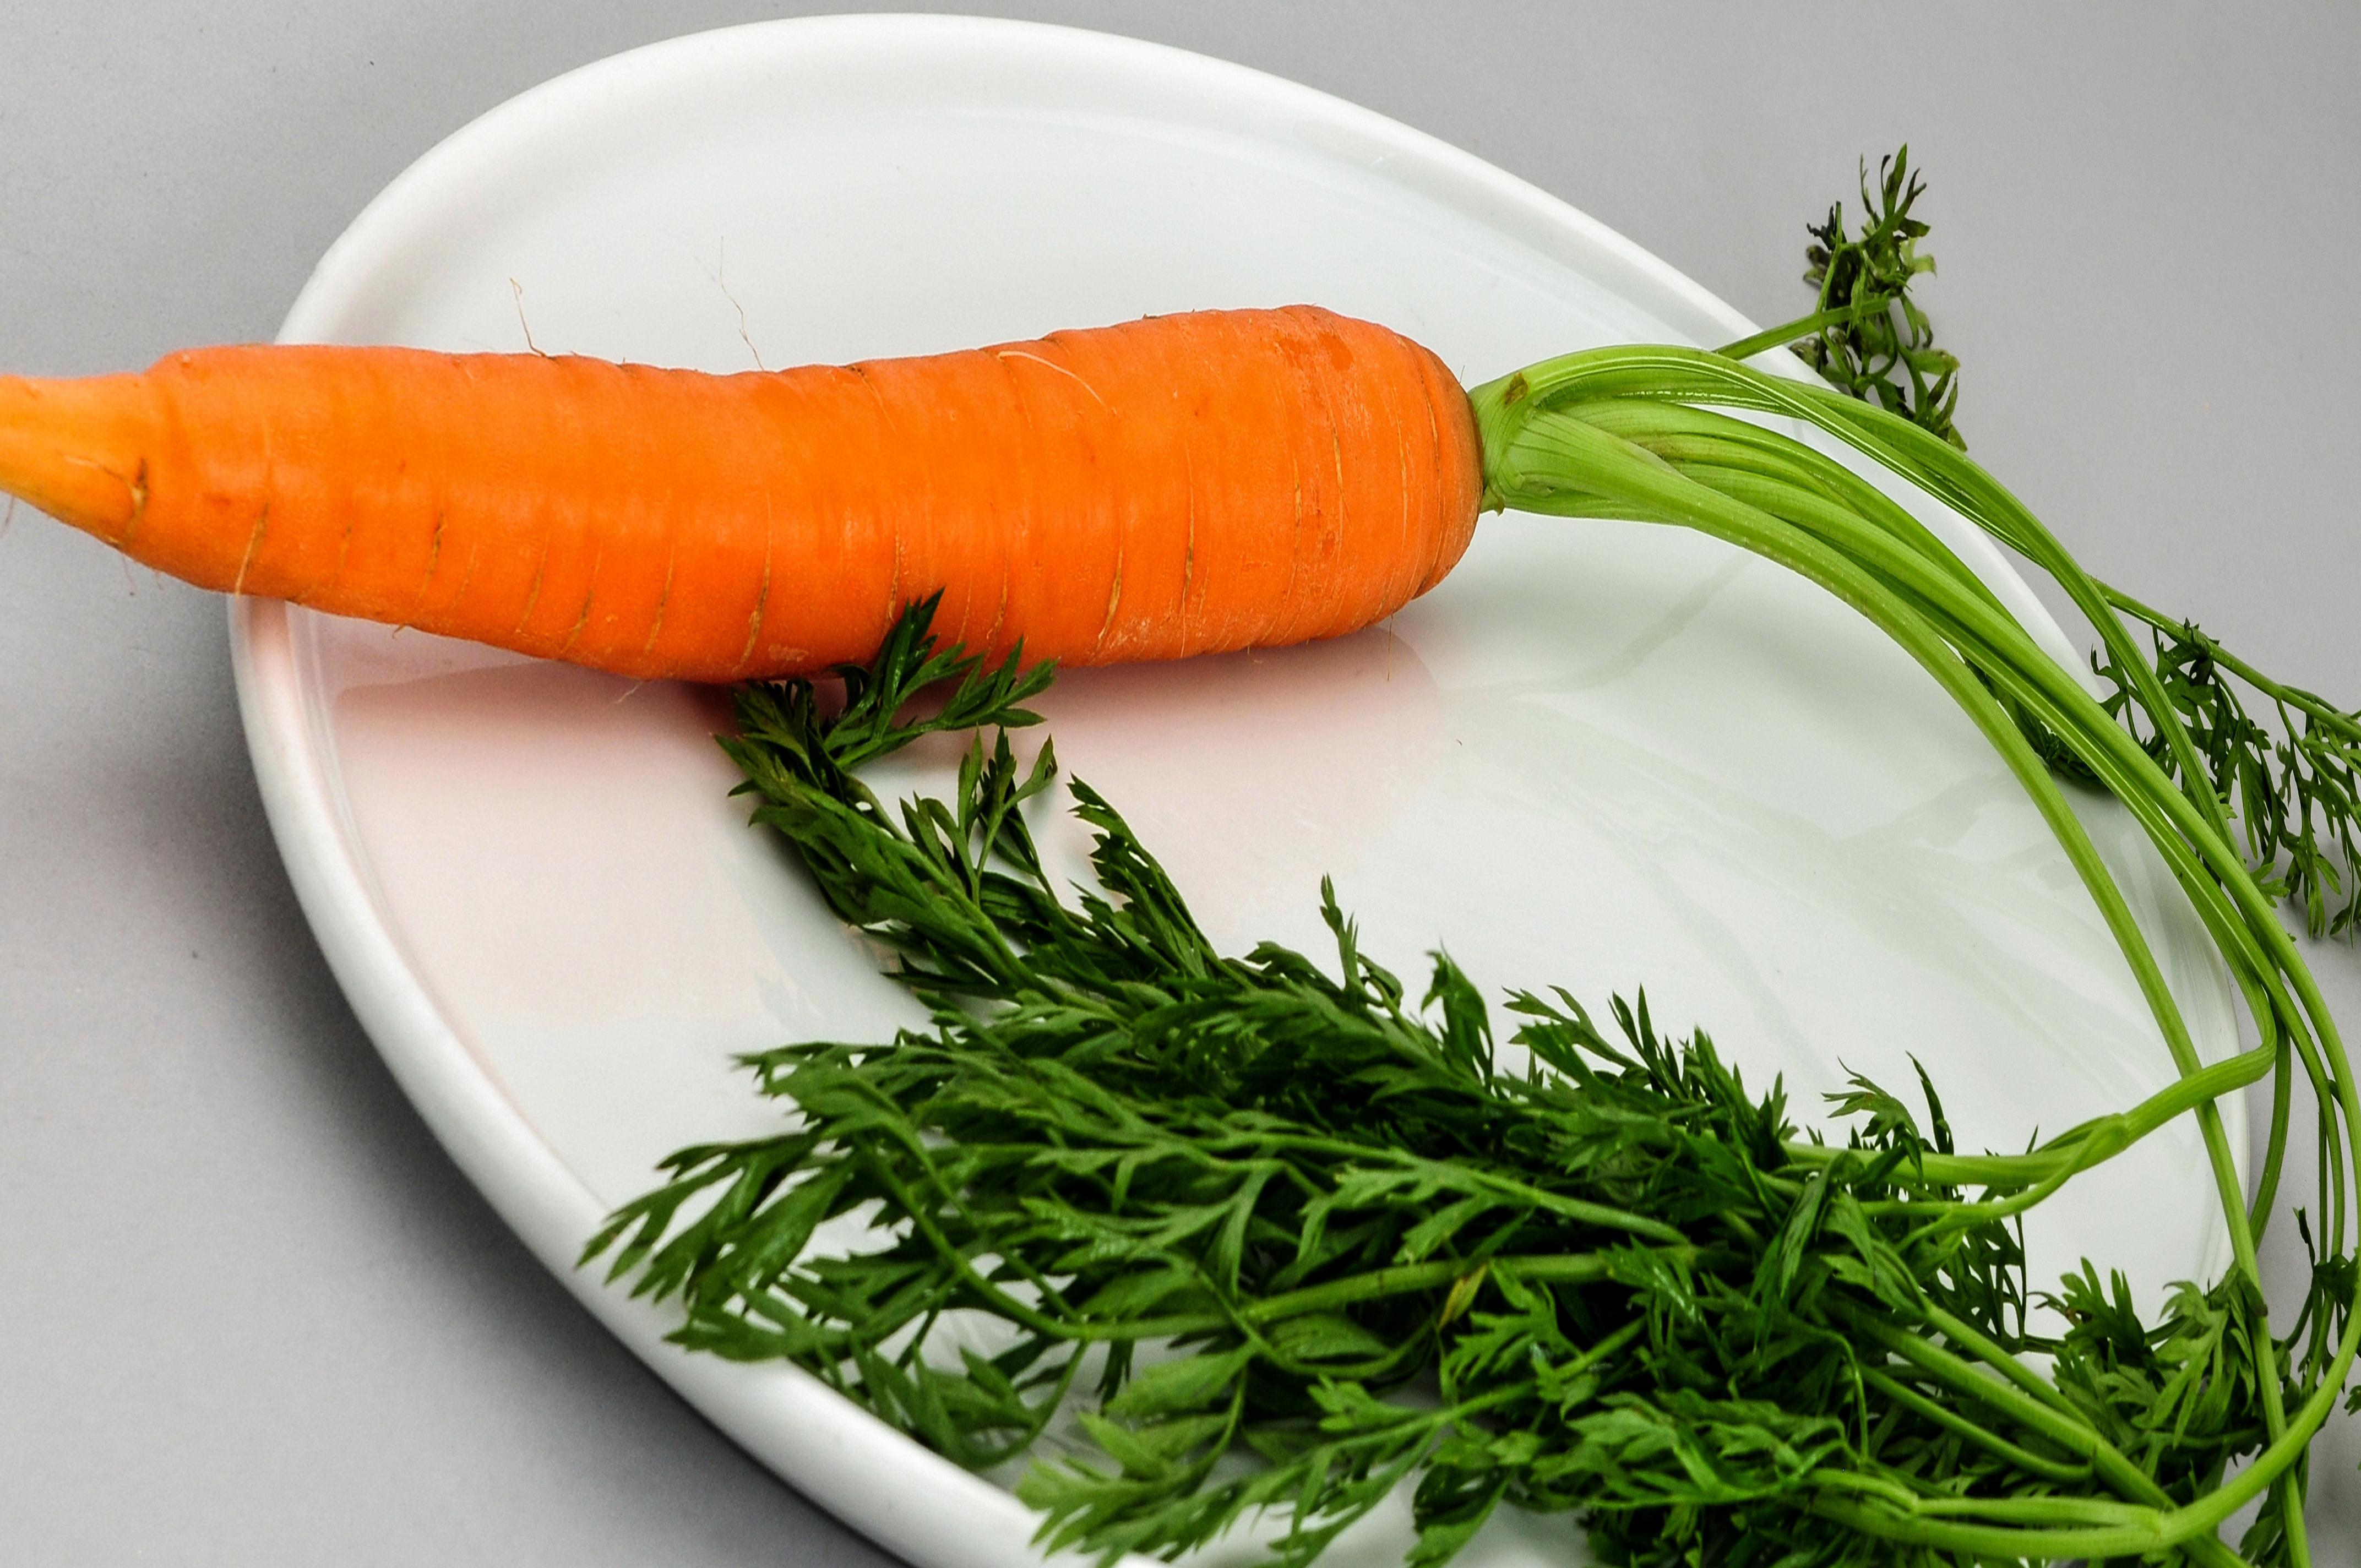carrot: (28, 322, 2114, 696)
